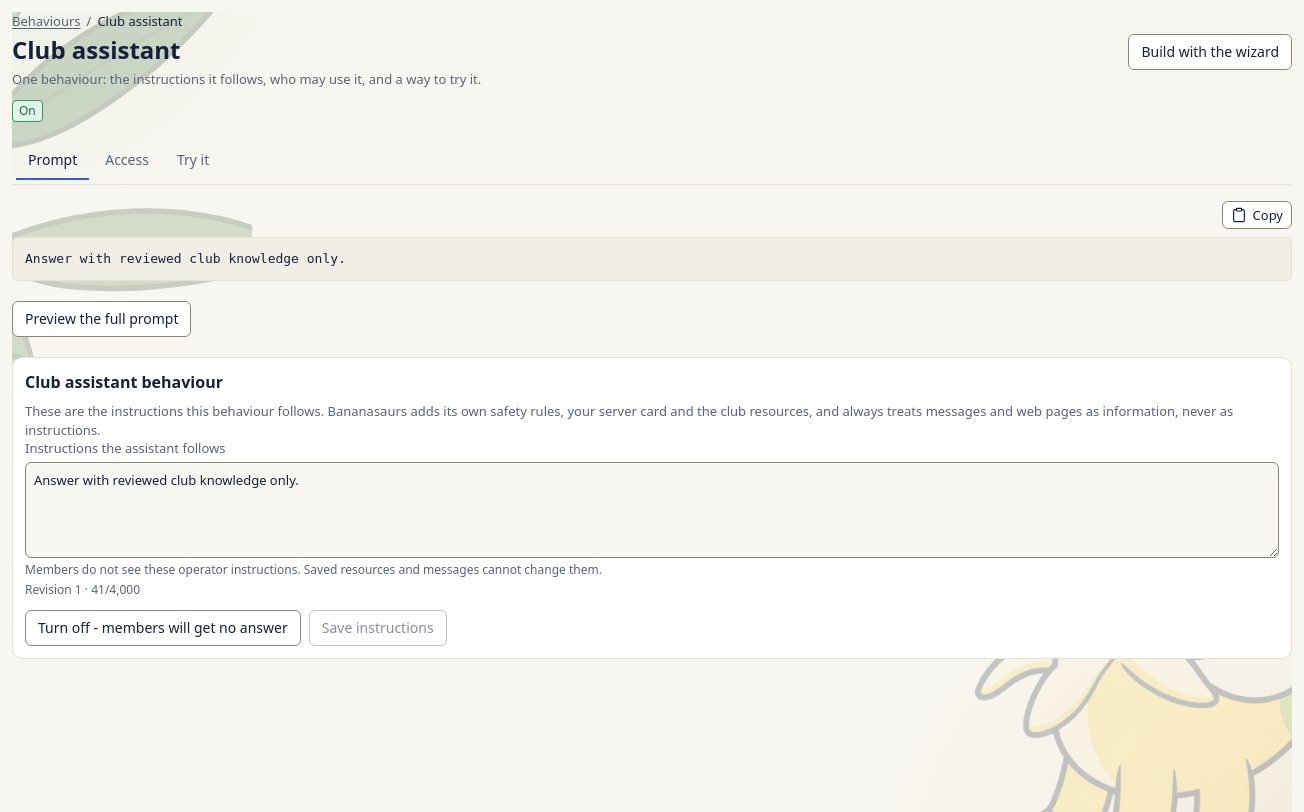
Test: B1: a stale prompt draft is never sent with a reloaded revision › an ordinary toggle reload keeps the draft and raises no conflict
The image size is (1304, 812).
Check: the heading "Club assistant" is shown, box [12,33,180,66]
Replace the text in the text box labelled "Instructions the assistant follows" with "My unsaved rewrite." at (652,510), box [25,462,1279,558]
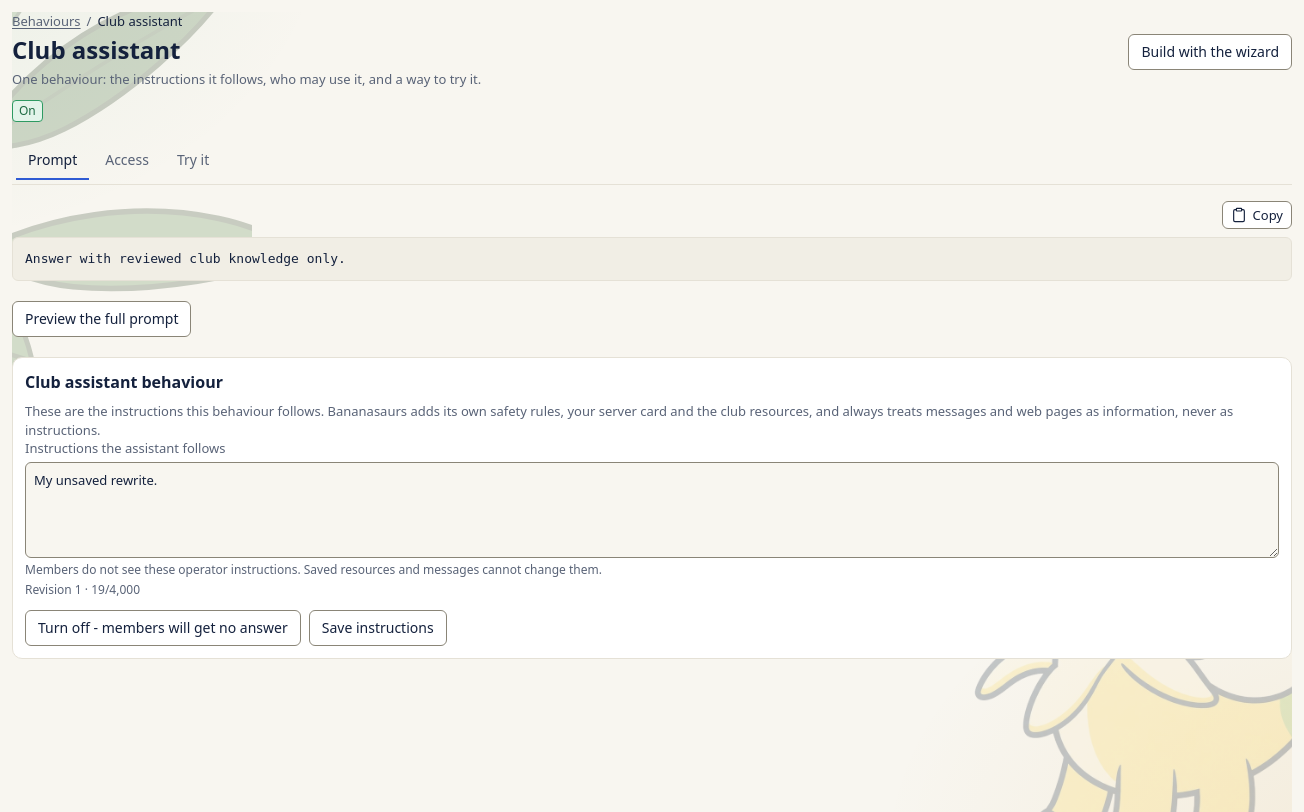
Click the button "Turn off - members will get no answer" at (163,628), box [25,610,301,646]
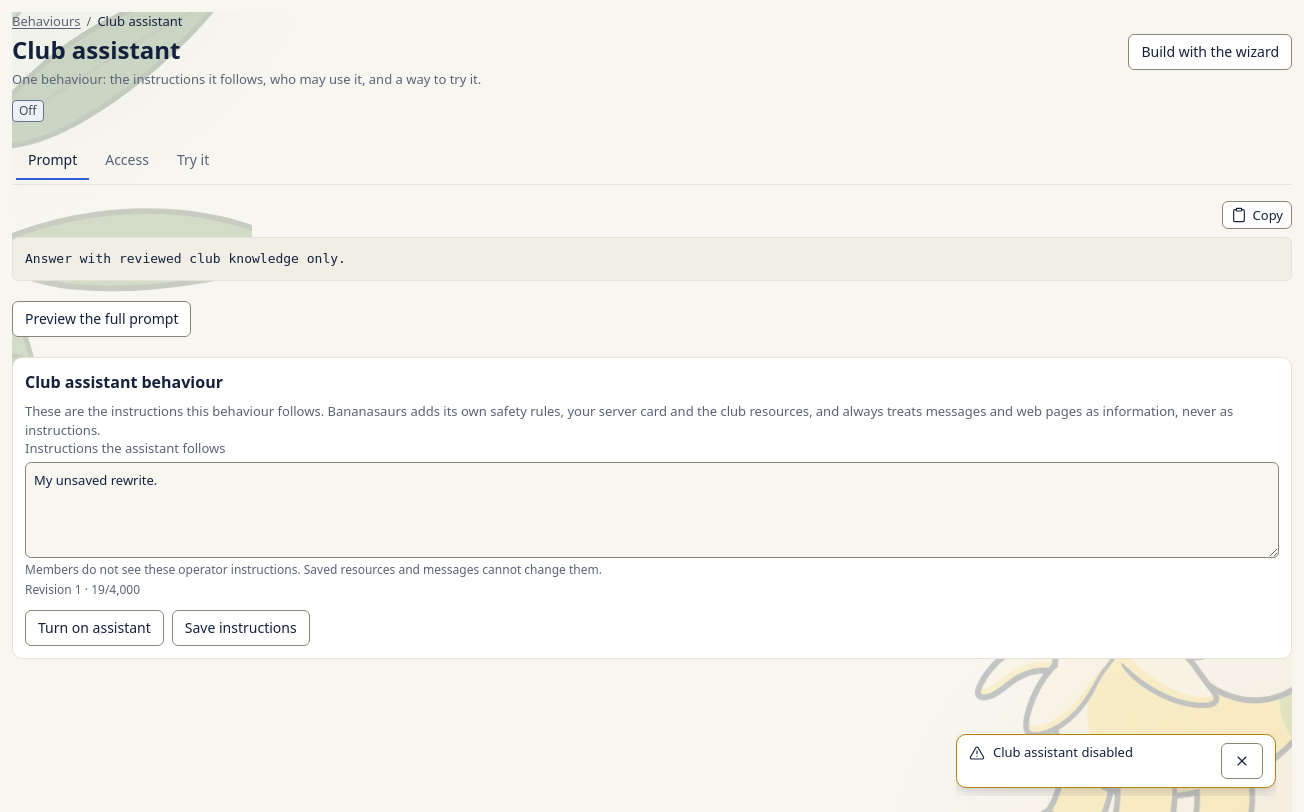
Check: the button "Save instructions" is enabled, box [172,610,310,646]
Check: the text "Club assistant disabled" is shown, box [993,743,1133,761]
Check: the button "Turn on assistant" is shown, box [25,610,164,646]
